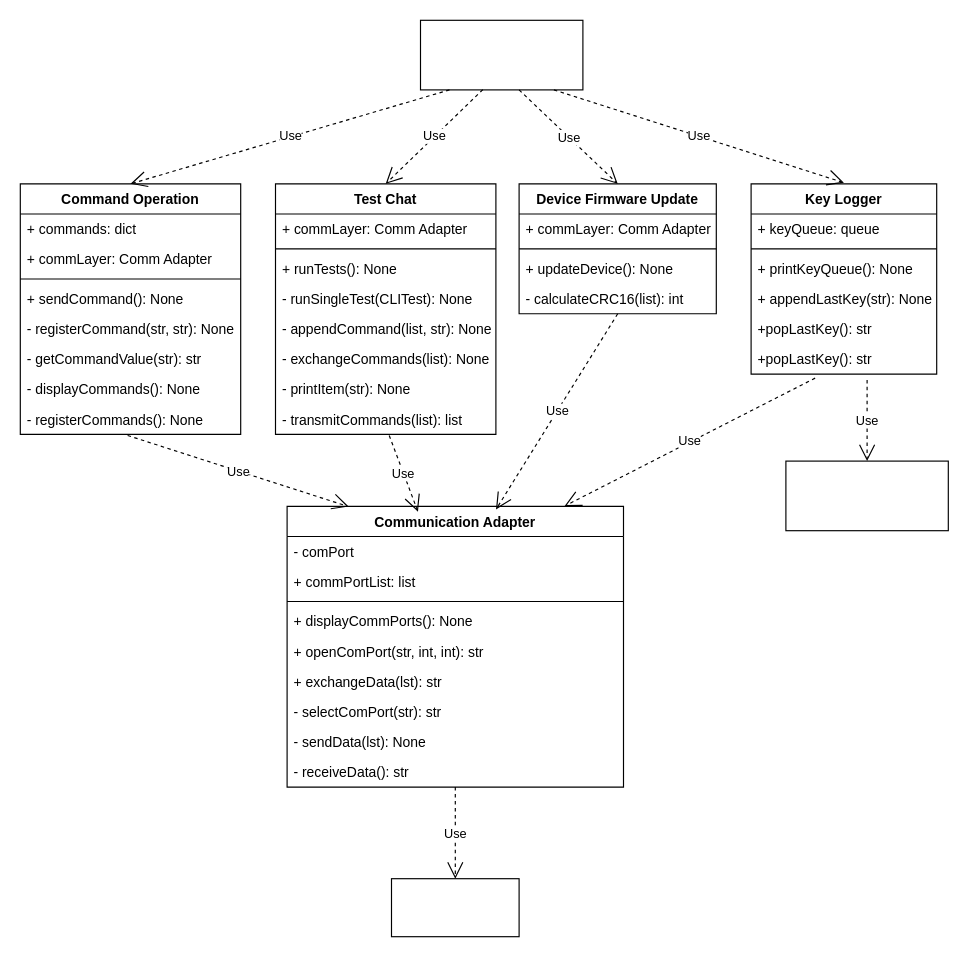
Some shapes in this 969 by 957 pixel diagram are drawn without their labels. The centre of each missing label's shape, as x and y in pixels:
"CLI" goes at (x=501, y=54).
"deque" goes at (x=866, y=495).
"PySerial" goes at (x=454, y=907).
